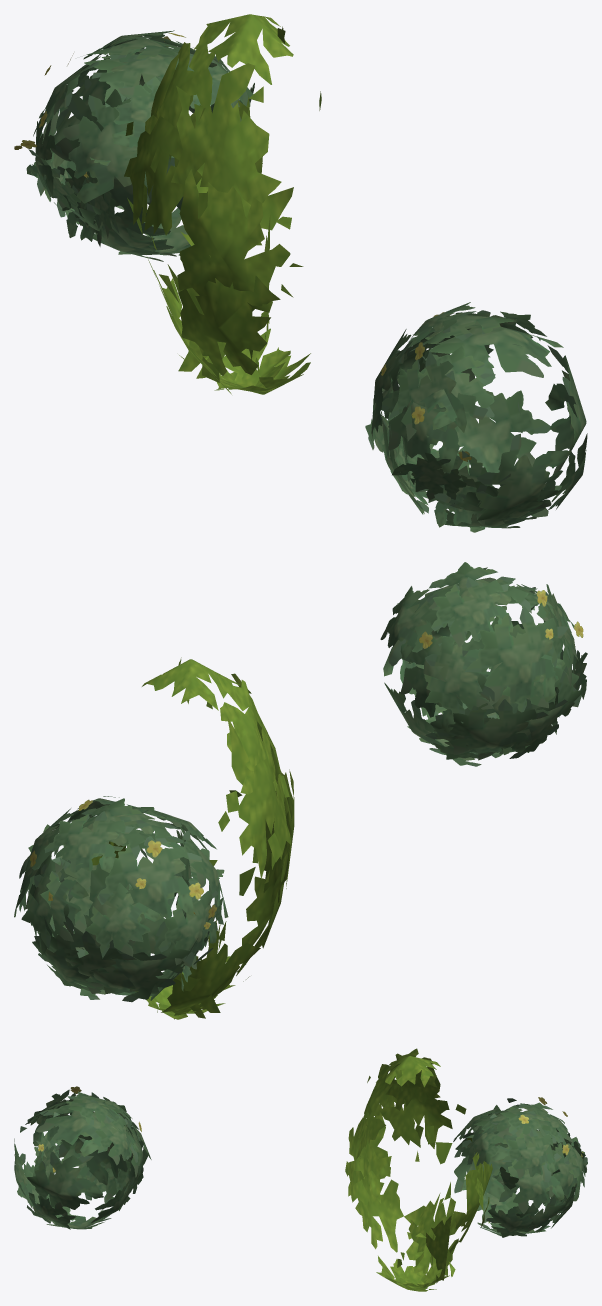
Rendered from pref_sm_beach_bk_pointmol_grassplant04a_lv1.fbx.
3 renders of one model, top to bottom at view 1: azimuth 30°, elevation 25°; view 2: azimuth 150°, elevation 25°; view 3: azimuth 270°, elevation 25°, orthographic. The views are drawn at different scales.
Visible parts, largest first — view 1: pref_sm_beach_bk_pointmol_grassplant04a_lv1; view 2: pref_sm_beach_bk_pointmol_grassplant04a_lv1; view 3: pref_sm_beach_bk_pointmol_grassplant04a_lv1.
Part boxes in pixels (x1=…): pref_sm_beach_bk_pointmol_grassplant04a_lv1: x1=14, y1=14, x2=587, y2=532; pref_sm_beach_bk_pointmol_grassplant04a_lv1: x1=14, y1=562, x2=587, y2=1019; pref_sm_beach_bk_pointmol_grassplant04a_lv1: x1=14, y1=1048, x2=587, y2=1291.
Size of the model in its own units: 3.7 by 5.91 by 13.15.
